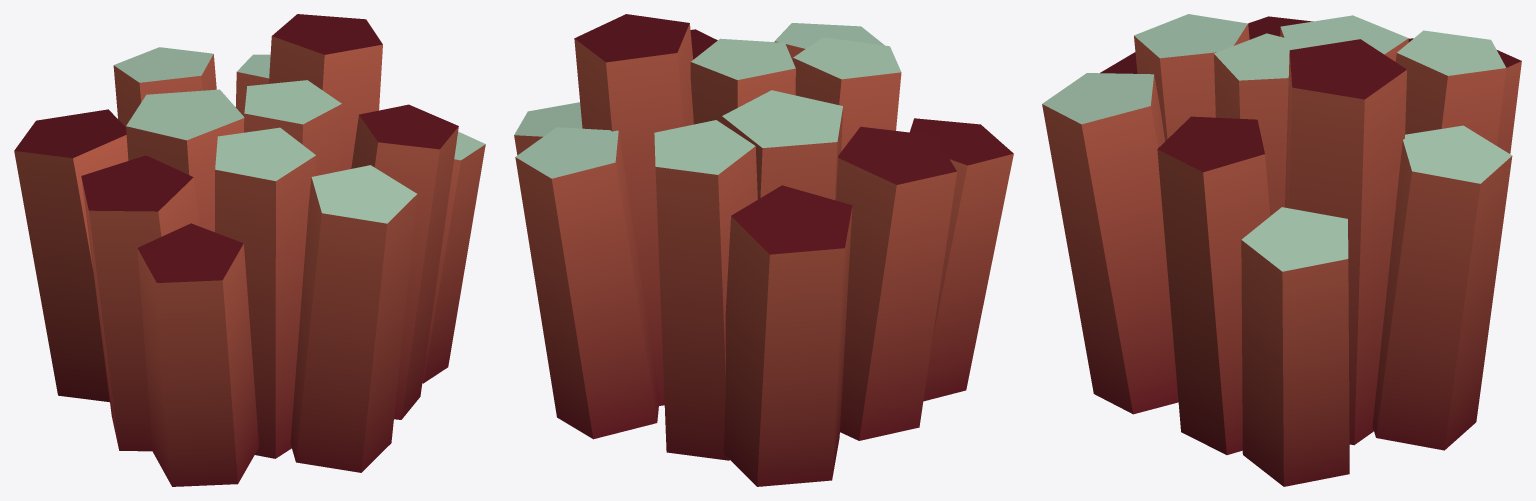
The model's file is coral-organpipe.glb.
The picture shows the model from 3 angles, left to right: view 1: azimuth 30°, elevation 25°; view 2: azimuth 150°, elevation 25°; view 3: azimuth 270°, elevation 25°; orthographic projection. The views are drawn at different scales.
Parts seen in each view (by area): view 1: coral-organpipe_mesh; view 2: coral-organpipe_mesh; view 3: coral-organpipe_mesh.
Boxes of the visible parts, x1=… form: coral-organpipe_mesh: x1=14, y1=14, x2=485, y2=486; coral-organpipe_mesh: x1=514, y1=14, x2=1013, y2=486; coral-organpipe_mesh: x1=1042, y1=14, x2=1521, y2=486.
Bounding box in the file's own units: 0.4628 × 0.3736 × 0.4356.
